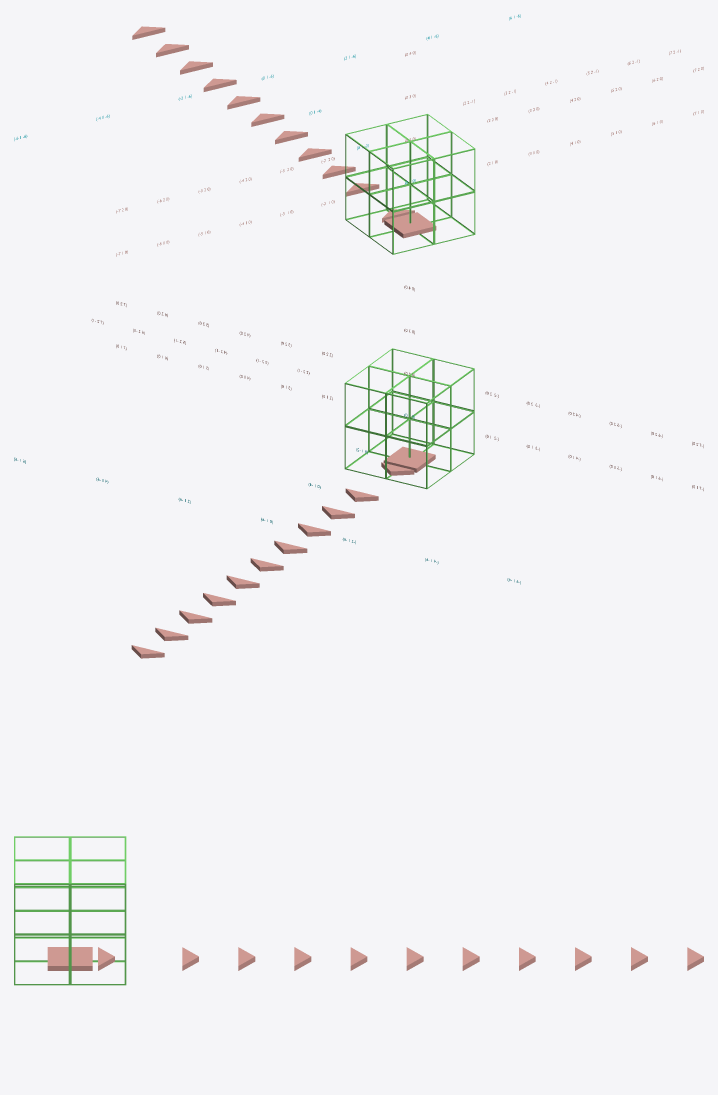
The model's file is Coord_grid.glb.
3 views of the same model, one above another, from view 1: azimuth 30°, elevation 25°; view 2: azimuth 150°, elevation 25°; view 3: azimuth 270°, elevation 25° (orthographic). The views are drawn at different scales.
Visible parts, largest first — view 1: Cube.001; view 2: Cube.001; view 3: Cube.001.
Part boxes in pixels (x1=…): Cube.001: x1=14, y1=14, x2=703, y2=256; Cube.001: x1=14, y1=285, x2=703, y2=658; Cube.001: x1=14, y1=836, x2=703, y2=985.
Size of the model in its own units: 14.29 by 4.07 by 12.3.
